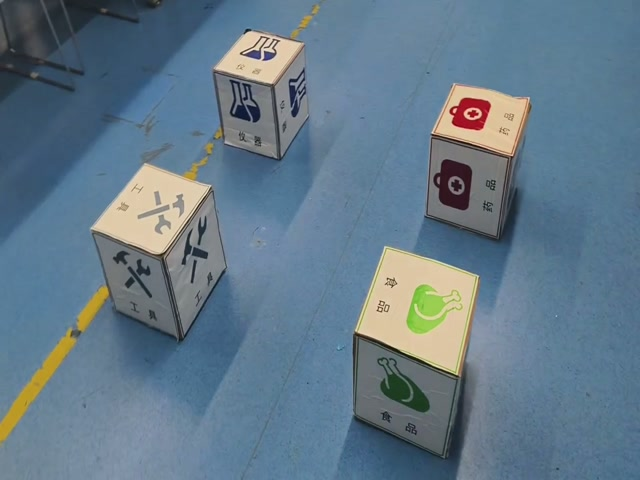Cube_food: (353, 240, 483, 383)
Cube_ins: (212, 26, 306, 85)
Cube_medicine: (430, 78, 531, 161)
Cube_tool: (88, 153, 211, 261)
